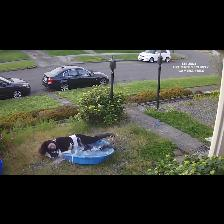person: (39, 133, 115, 158)
